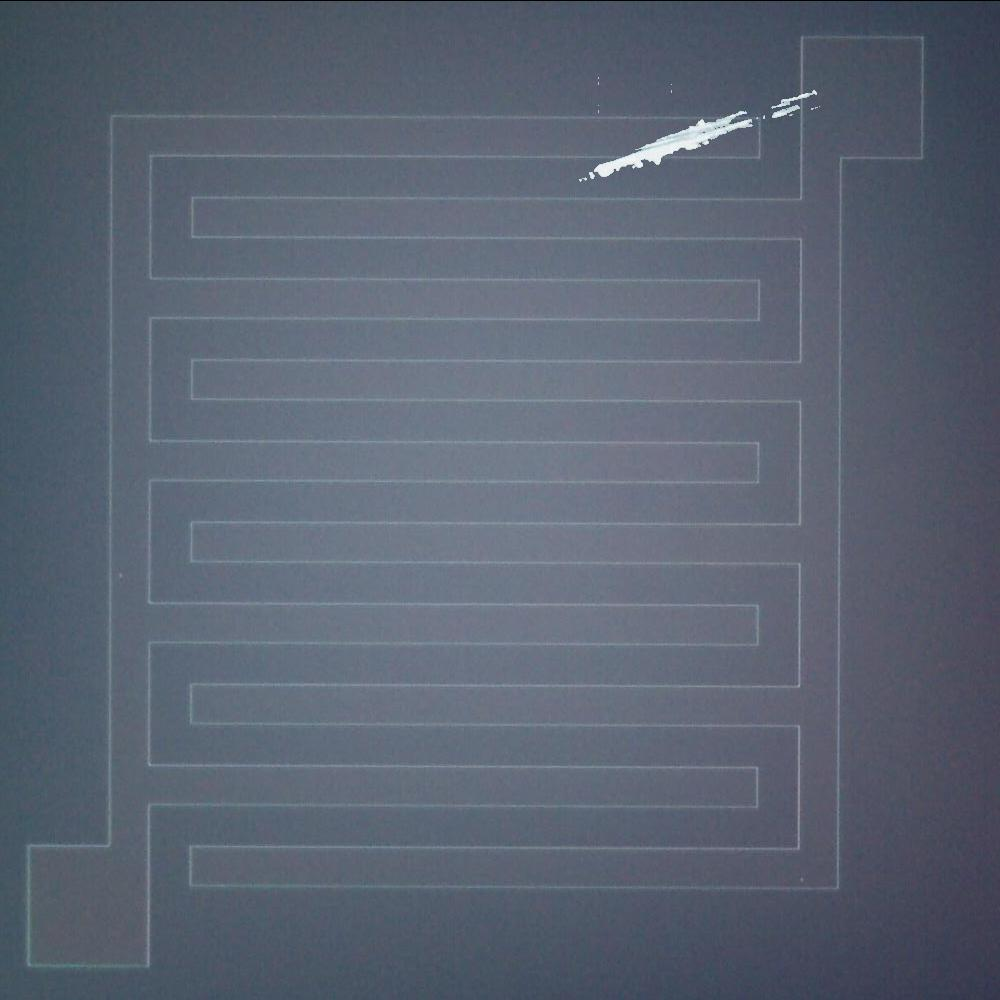scratch: (571, 75, 830, 196)
